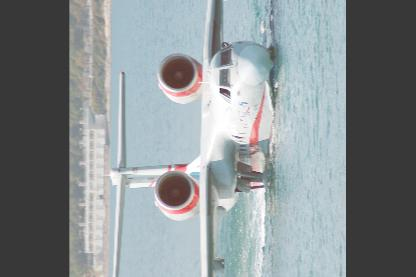B52: (99, 0, 280, 276)
